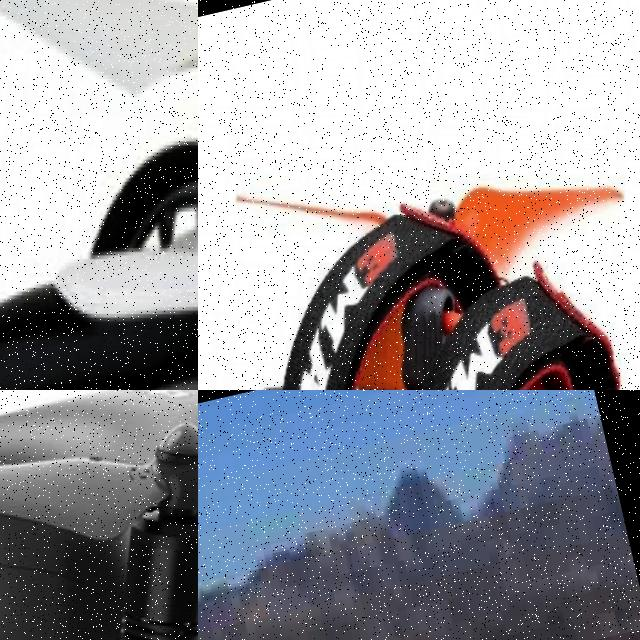drone: (198, 0, 640, 390), (0, 0, 198, 390), (0, 390, 198, 640)
